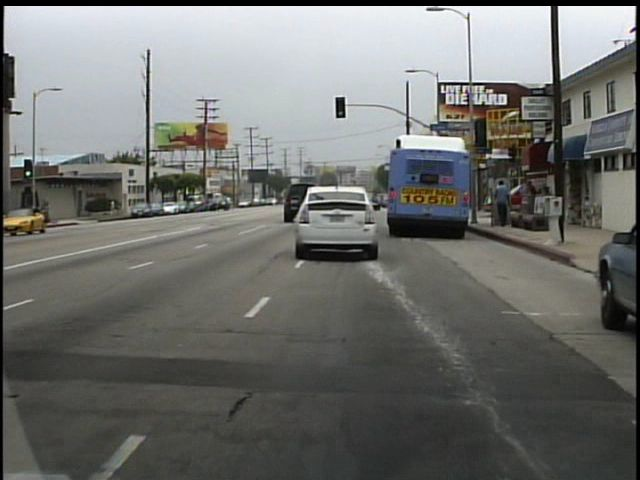person: (489, 179, 511, 232), (109, 195, 120, 218)
